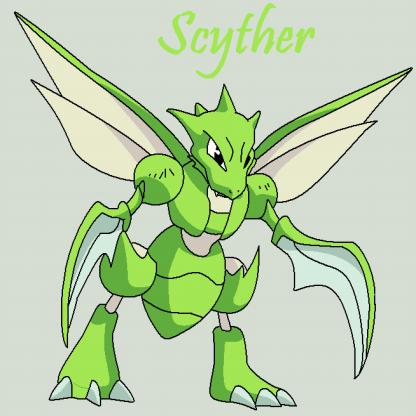Scyther: (13, 8, 385, 416)
